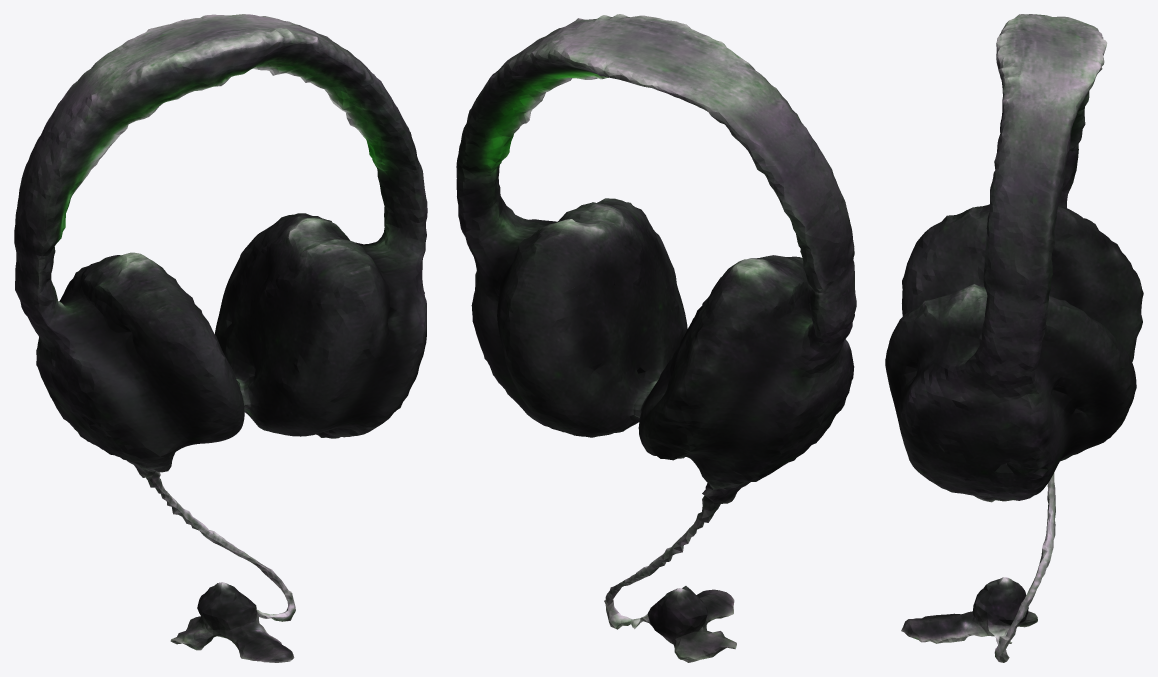
Rendered from headset.glb.
3 views of the same model, side by side, from view 1: azimuth 30°, elevation 25°; view 2: azimuth 150°, elevation 25°; view 3: azimuth 270°, elevation 25° (orthographic). The views are drawn at different scales.
Size of the model in its own units: 0.7 by 1.04 by 0.4072.
Materials: 1 (1 with a texture image).
